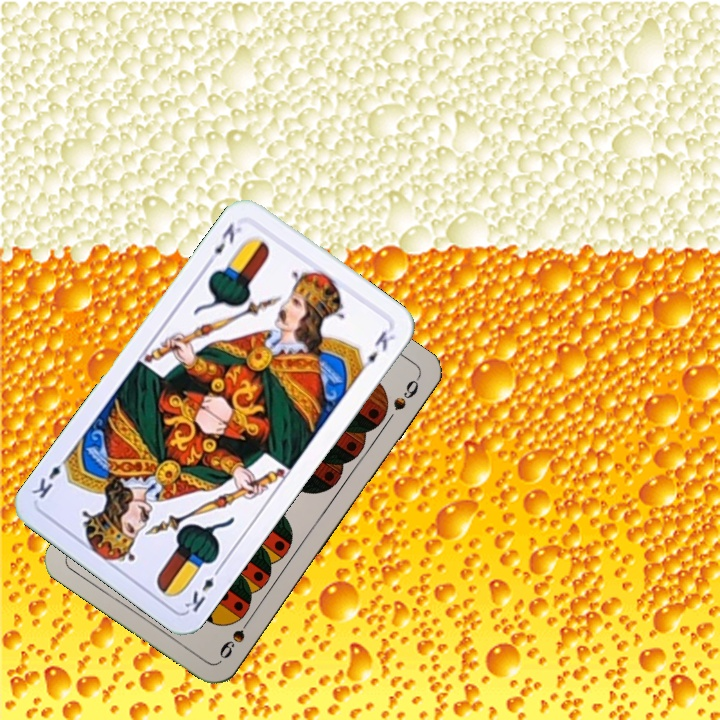EK: (180, 562, 225, 616), (205, 219, 245, 268)
S9: (215, 611, 256, 662)
